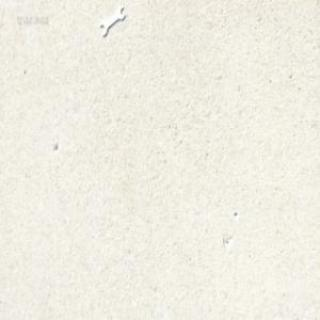Wrenchtrack_idkeyframe: (99, 7, 123, 38)
